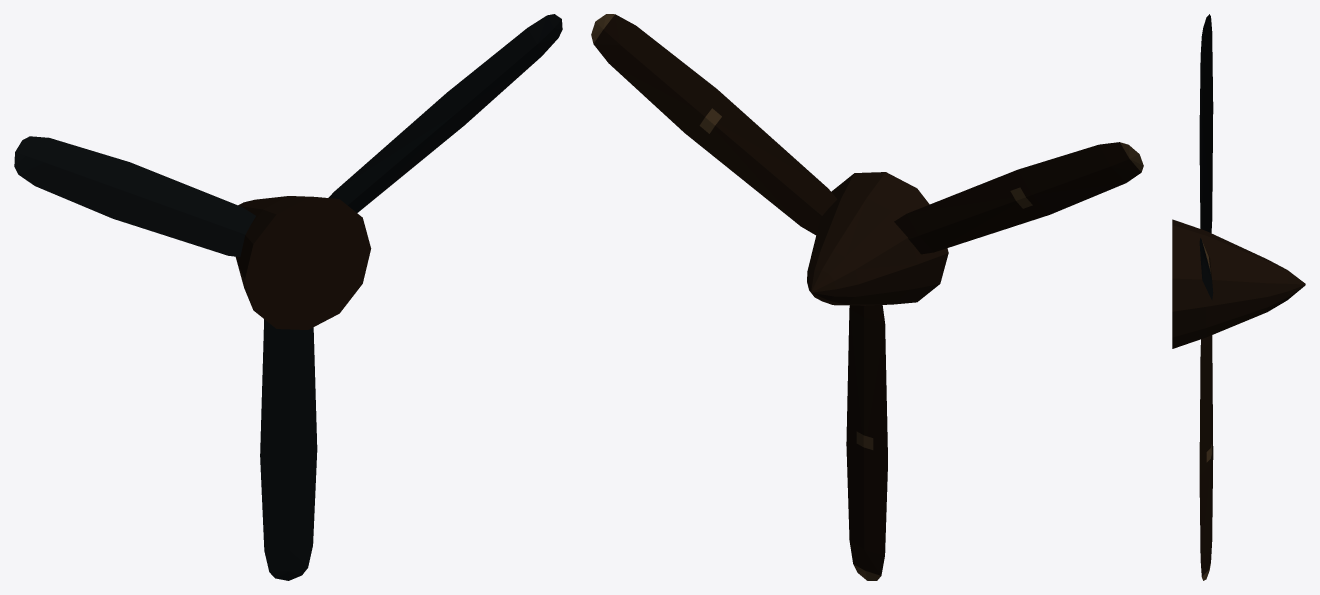
File: prop_ki61.obj
3 renders of one model, left to right at view 1: azimuth 30°, elevation 25°; view 2: azimuth 150°, elevation 25°; view 3: azimuth 270°, elevation 25°, orthographic. The views are drawn at different scales.
Parts seen in each view (by area): view 1: ShapeIndexedFaceSet.138_ShapeIndexedFaceSet.139, ShapeIndexedFaceSet.137_ShapeIndexedFaceSet.138; view 2: ShapeIndexedFaceSet.140_ShapeIndexedFaceSet, ShapeIndexedFaceSet.137_ShapeIndexedFaceSet.138, ShapeIndexedFaceSet.139_ShapeIndexedFaceSet.140; view 3: ShapeIndexedFaceSet.137_ShapeIndexedFaceSet.138, ShapeIndexedFaceSet.138_ShapeIndexedFaceSet.139, ShapeIndexedFaceSet.140_ShapeIndexedFaceSet.
Part boxes in pixels (x1,y1,x2,y2): ShapeIndexedFaceSet.138_ShapeIndexedFaceSet.139: (14, 14, 562, 580); ShapeIndexedFaceSet.137_ShapeIndexedFaceSet.138: (235, 196, 371, 329); ShapeIndexedFaceSet.140_ShapeIndexedFaceSet: (593, 14, 1141, 575); ShapeIndexedFaceSet.137_ShapeIndexedFaceSet.138: (807, 172, 948, 305); ShapeIndexedFaceSet.139_ShapeIndexedFaceSet.140: (591, 14, 1143, 580); ShapeIndexedFaceSet.137_ShapeIndexedFaceSet.138: (1172, 219, 1305, 348); ShapeIndexedFaceSet.138_ShapeIndexedFaceSet.139: (1199, 14, 1213, 300); ShapeIndexedFaceSet.140_ShapeIndexedFaceSet: (1199, 243, 1213, 576).
Size of the model in its own units: 8.56 by 7.49 by 2.
